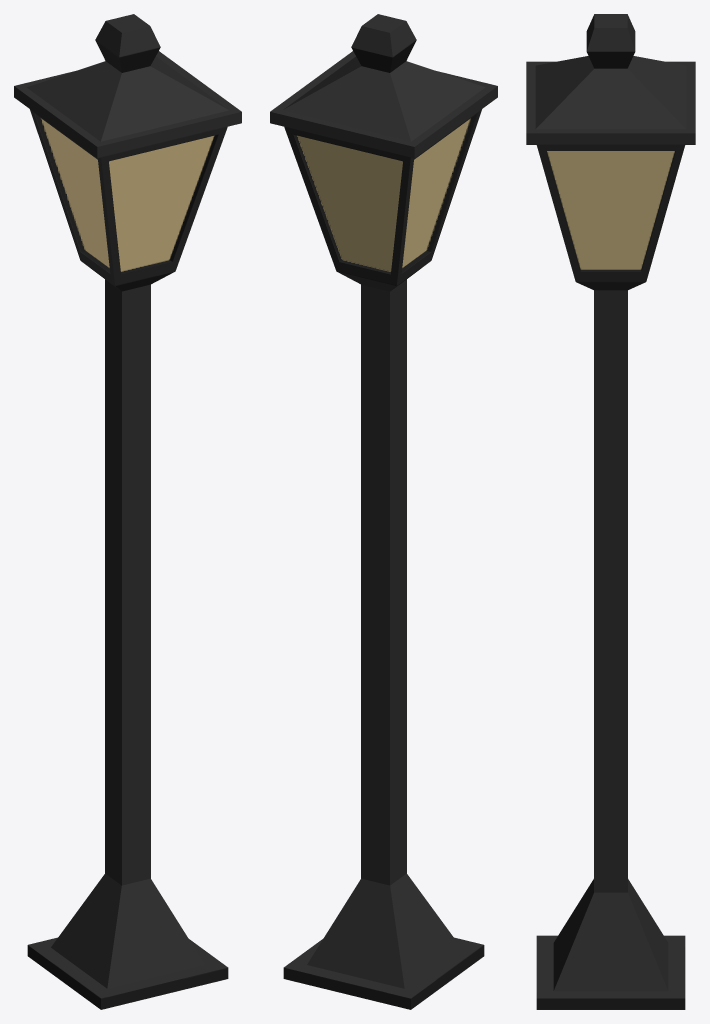
Rendered from Lamp_Post_Model.fbx.
3 renders of one model, left to right at view 1: azimuth 30°, elevation 25°; view 2: azimuth 150°, elevation 25°; view 3: azimuth 270°, elevation 25°, orthographic.
Visible parts, largest first — view 1: LampPost; view 2: LampPost; view 3: LampPost.
Boxes of the visible parts, x1,y1,x2,y2 form: LampPost: [14, 14, 241, 1009]; LampPost: [270, 14, 497, 1009]; LampPost: [526, 14, 695, 1009].
Bounding box in the file's own units: 54.54 × 340 × 54.54.
